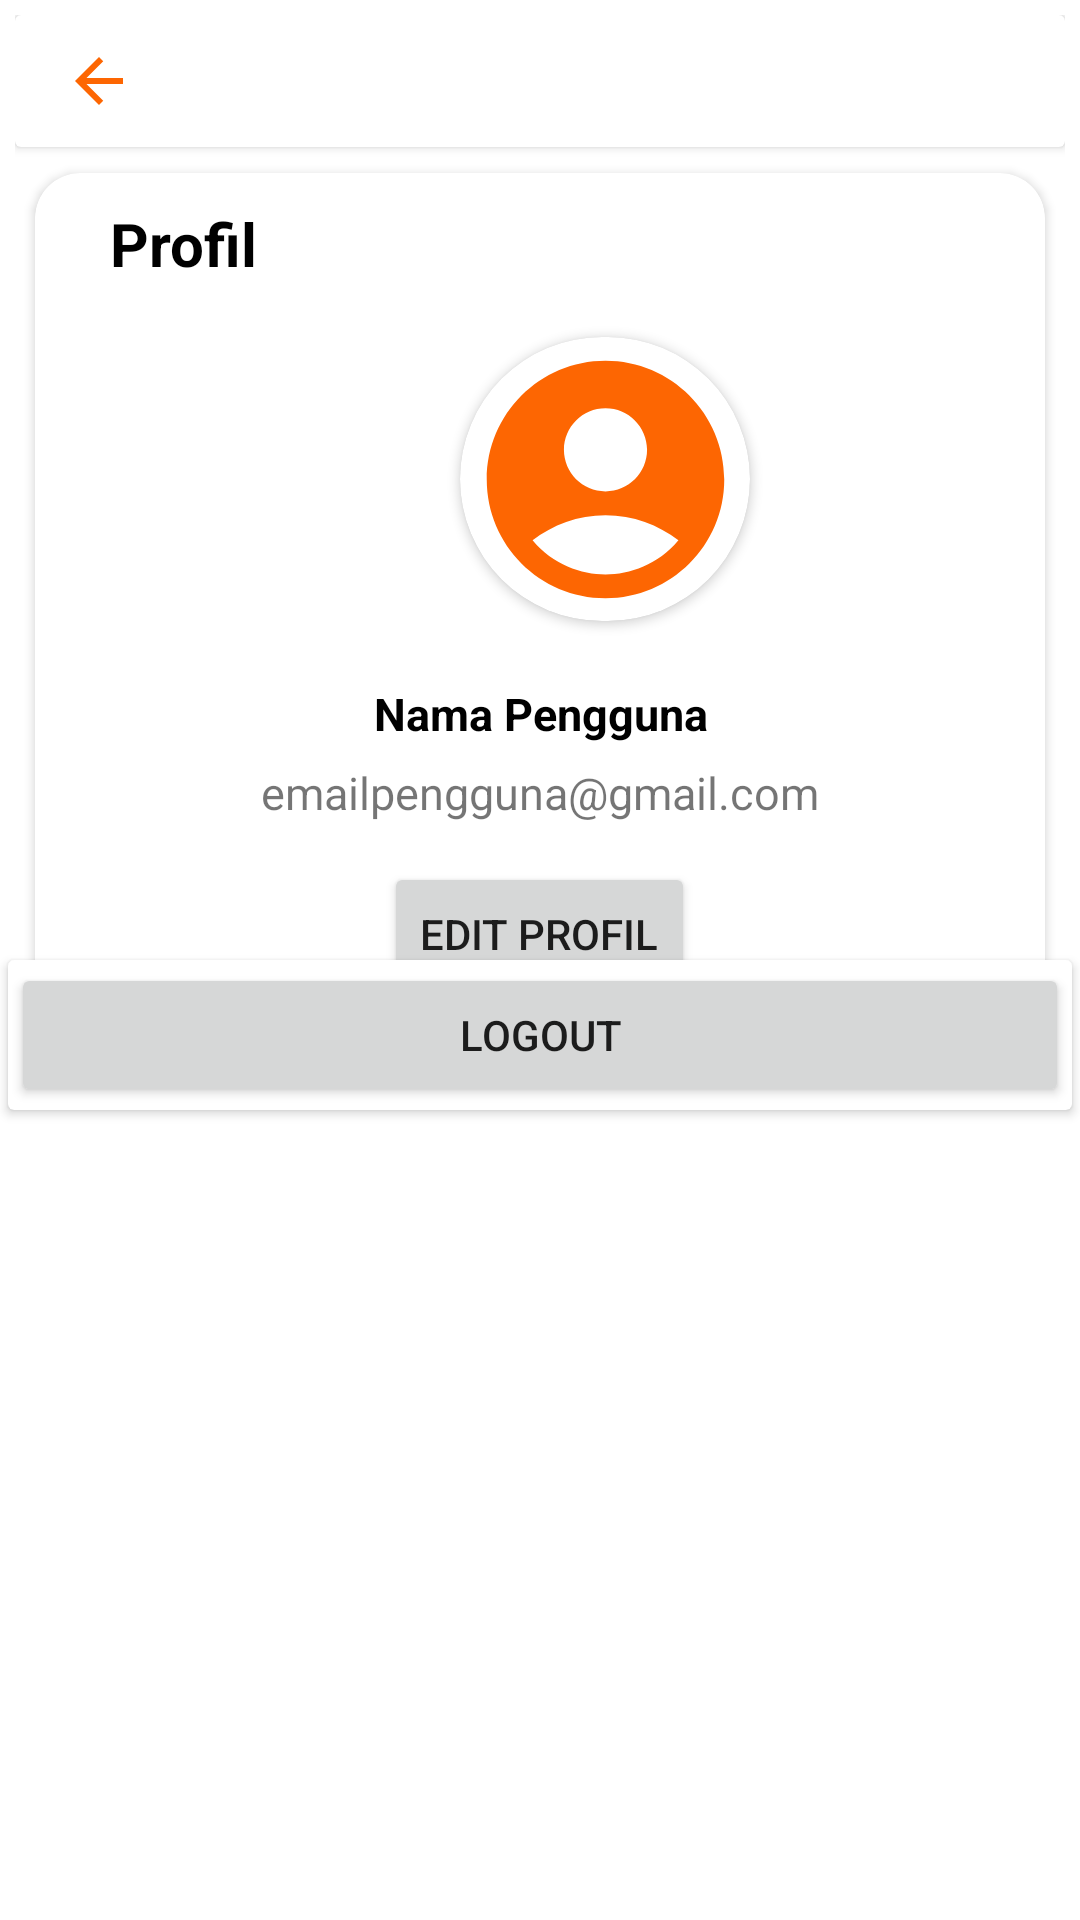

Point at icon controls on the screen. Image size 1080w x 1920h, points as (x=x, y=y).
akunoren: (x=605, y=491)
backoren: (x=99, y=81)
